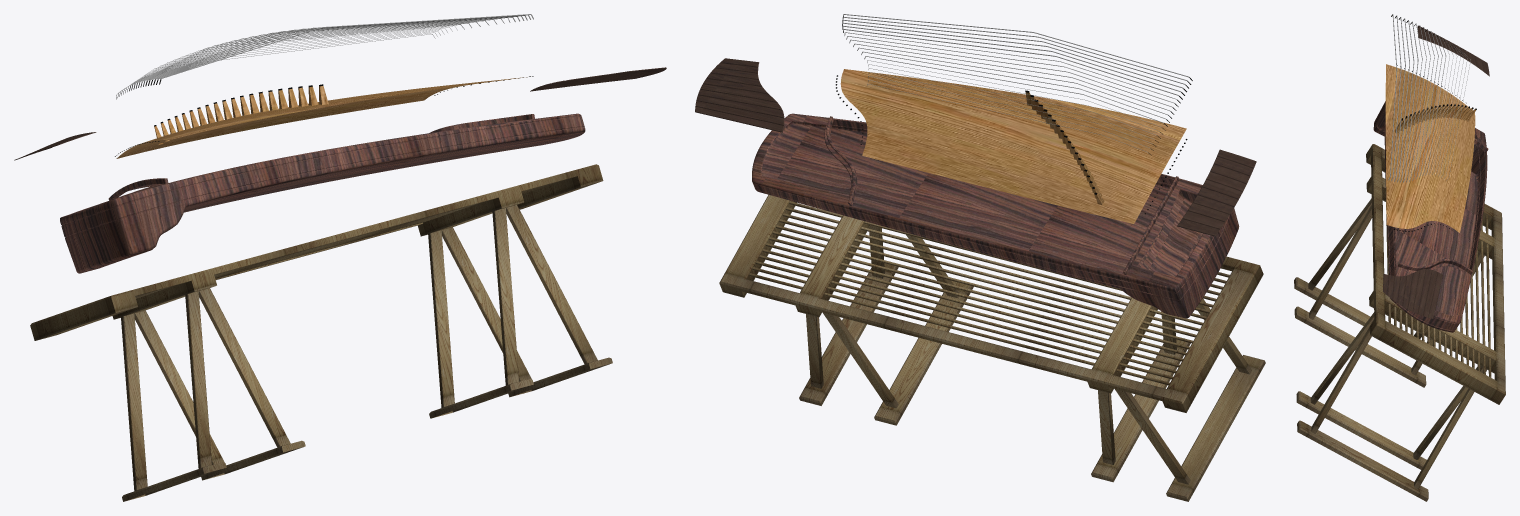
The model's file is 古筝拆解图.FBX.
The picture shows the model from 3 angles, left to right: view 1: azimuth 30°, elevation 25°; view 2: azimuth 150°, elevation 25°; view 3: azimuth 270°, elevation 25°; orthographic projection. The views are drawn at different scales.
Parts seen in each view (by area): view 1: 筝架, 边板及底板, 面板, 筝弦, 筝尾; view 2: 筝架, 边板及底板, 面板, 筝弦, 筝尾, 筝首; view 3: 筝架, 面板, 边板及底板, 筝弦, 筝尾, 筝首.
Part boxes in pixels (x1,y1,x2,y2): 筝架: (30, 164, 612, 501); 边板及底板: (60, 113, 585, 273); 面板: (116, 77, 526, 158); 筝弦: (116, 14, 533, 99); 筝尾: (530, 67, 666, 91); 筝架: (719, 194, 1265, 501); 边板及底板: (752, 113, 1239, 318); 面板: (840, 69, 1186, 223); 筝弦: (842, 14, 1192, 155); 筝尾: (695, 58, 784, 132); 筝首: (1177, 149, 1256, 236); 筝架: (1294, 144, 1505, 501); 面板: (1385, 64, 1475, 232); 边板及底板: (1373, 101, 1488, 332); 筝弦: (1388, 14, 1470, 182); 筝尾: (1383, 269, 1442, 318); 筝首: (1417, 25, 1489, 76).
Bounding box in the file's own units: 1622 × 1148 × 628.
Materials: 7 (5 with a texture image).
